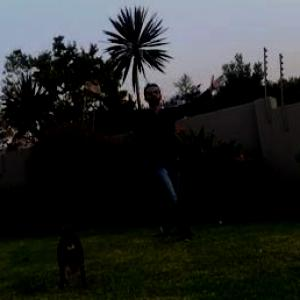takeoff: (74, 79, 210, 228)
